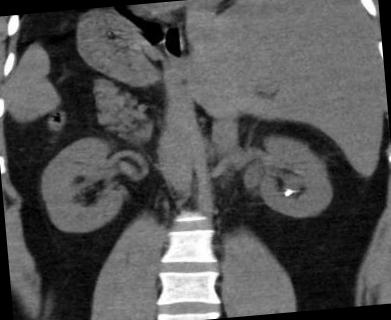Tas_Var: (282, 188, 294, 198)
